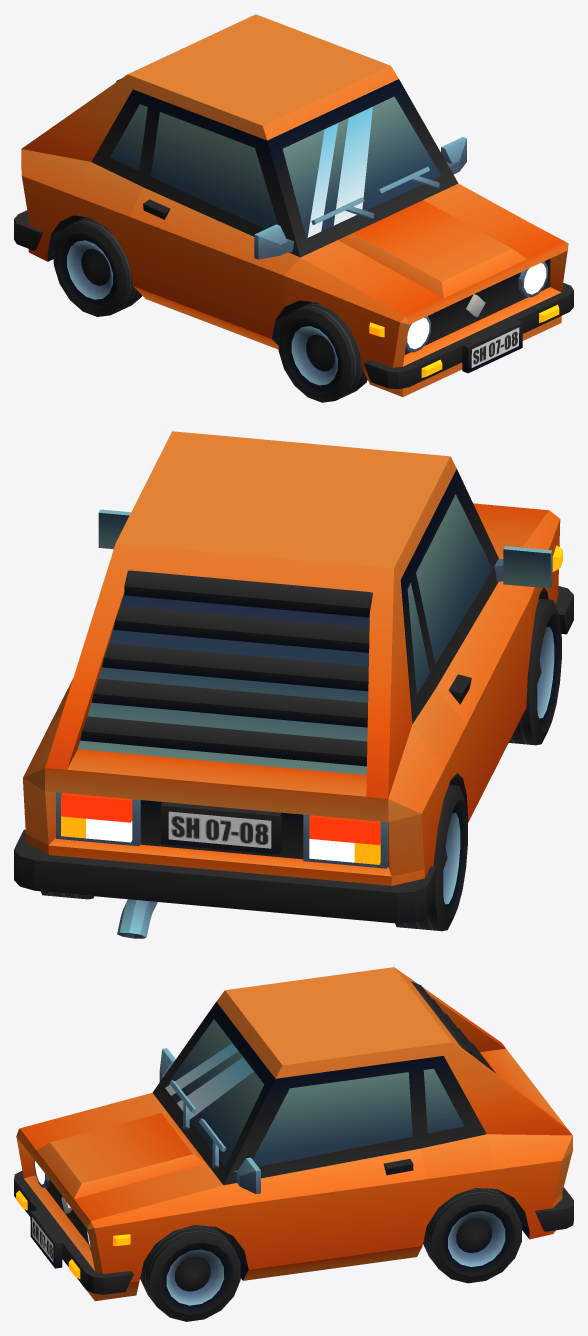
Rendered from car.glb.
3 views of the same model, one above another, from view 1: azimuth 30°, elevation 25°; view 2: azimuth 150°, elevation 25°; view 3: azimuth 270°, elevation 25° (orthographic). The views are drawn at different scales.
Visible parts, largest first — view 1: SHTV_Model_Car_Hatchback, SHTV_Model_Wheel_Hatchback_FR, SHTV_Model_Wheel_Hatchback_BR; view 2: SHTV_Model_Car_Hatchback, SHTV_Model_Wheel_Hatchback_FR, SHTV_Model_Wheel_Hatchback_BR; view 3: SHTV_Model_Car_Hatchback, SHTV_Model_Wheel_Hatchback_FL, SHTV_Model_Wheel_Hatchback_BL.
Boxes of the visible parts, bbox=[...] form: SHTV_Model_Car_Hatchback: bbox=[14, 14, 573, 396]; SHTV_Model_Wheel_Hatchback_FR: bbox=[278, 302, 367, 402]; SHTV_Model_Wheel_Hatchback_BR: bbox=[53, 217, 142, 316]; SHTV_Model_Car_Hatchback: bbox=[14, 431, 573, 938]; SHTV_Model_Wheel_Hatchback_FR: bbox=[509, 598, 561, 745]; SHTV_Model_Wheel_Hatchback_BR: bbox=[395, 785, 467, 931]; SHTV_Model_Car_Hatchback: bbox=[14, 967, 573, 1300]; SHTV_Model_Wheel_Hatchback_FL: bbox=[140, 1225, 240, 1321]; SHTV_Model_Wheel_Hatchback_BL: bbox=[423, 1188, 521, 1283].
Bounding box in the file's own units: 3.04 × 1.85 × 4.17.
2 materials, 2 textured.
